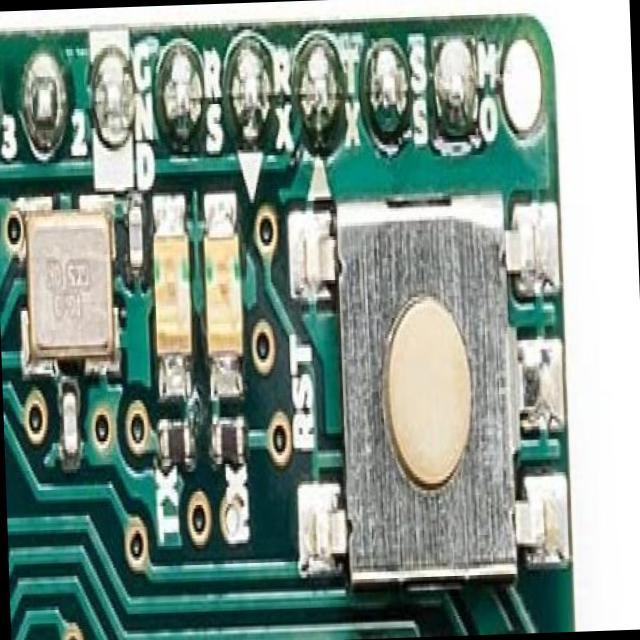LED: (0, 1, 576, 640), (147, 200, 192, 379), (194, 212, 243, 366)
capacitor: (124, 194, 151, 276), (60, 382, 84, 463)
resistor: (156, 408, 192, 472), (209, 414, 243, 478)
